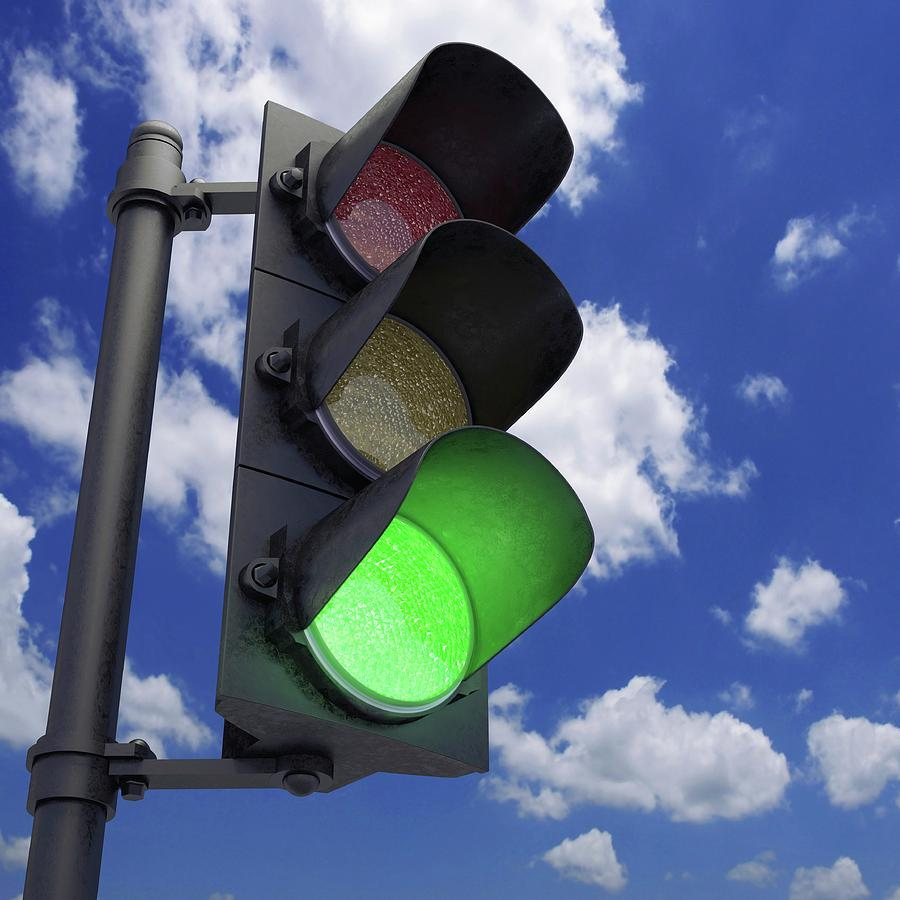Traffic light green: (232, 55, 588, 762)
